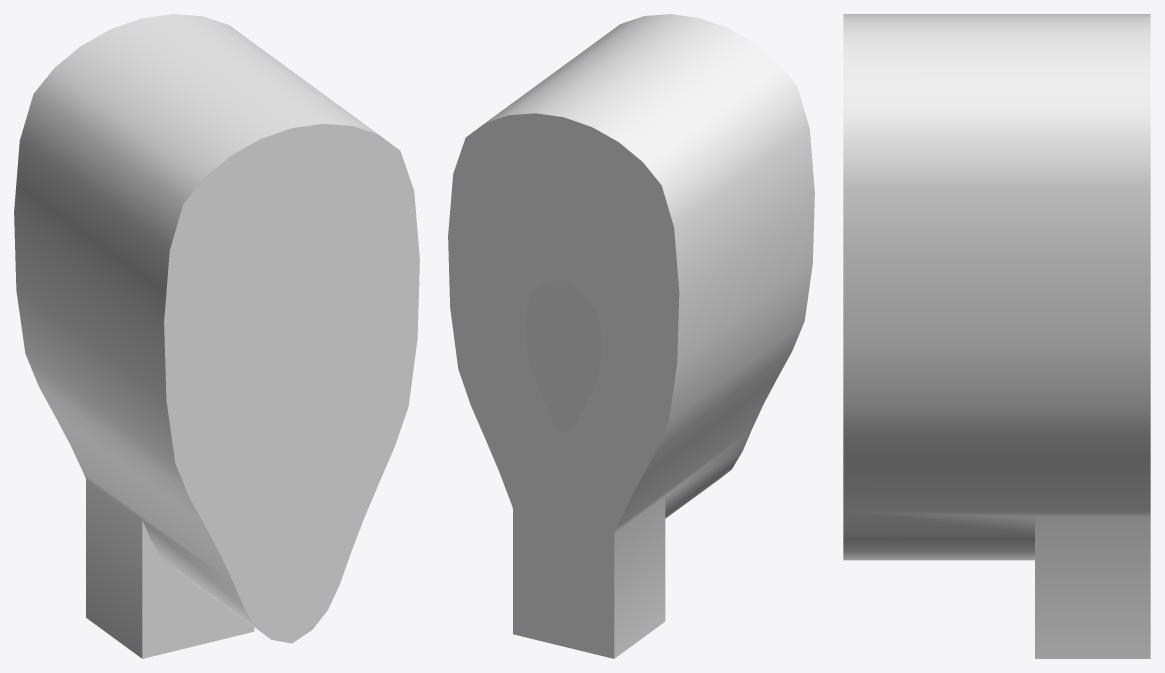
File: bucendgame.fbx
3 views of the same model, side by side, from view 1: azimuth 30°, elevation 25°; view 2: azimuth 150°, elevation 25°; view 3: azimuth 270°, elevation 25° (orthographic). The views are drawn at different scales.
Visible parts, largest first — view 1: Cylinder; view 2: Cylinder; view 3: Cylinder.
Boxes of the visible parts, <box> form: Cylinder: <box>14,14,419,658</box>; Cylinder: <box>448,14,814,658</box>; Cylinder: <box>843,14,1150,658</box>.
Size of the model in its own units: 362 by 793 by 368.
